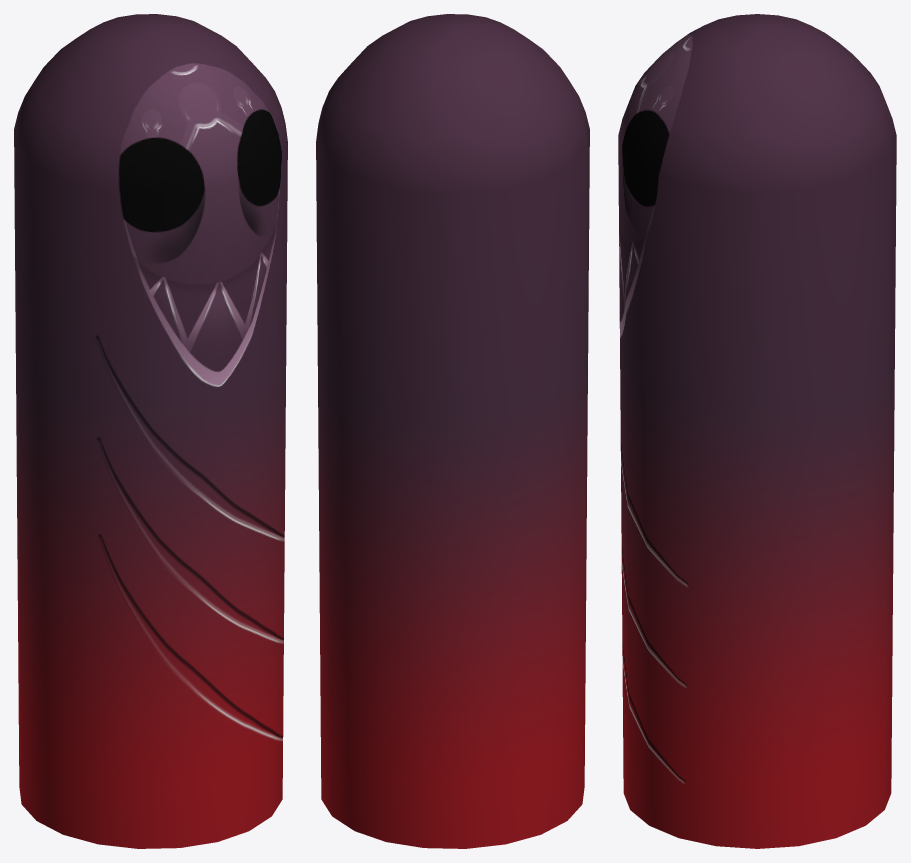
The model's file is totem_malvado.fbx.
The picture shows the model from 3 angles, left to right: view 1: azimuth 30°, elevation 25°; view 2: azimuth 150°, elevation 25°; view 3: azimuth 270°, elevation 25°; orthographic projection.
Visible parts, largest first — view 1: Default; view 2: Default; view 3: Default.
Boxes of the visible parts, x1=… form: Default: x1=14, y1=14, x2=287, y2=848; Default: x1=316, y1=14, x2=589, y2=848; Default: x1=618, y1=14, x2=896, y2=848.
Bounding box in the file's own units: 12.45 × 38.34 × 12.61.
